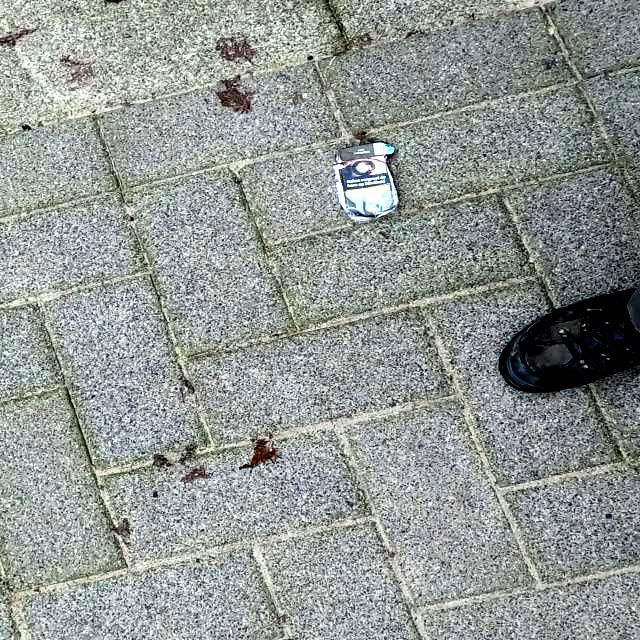Paper: (331, 140, 399, 222)
